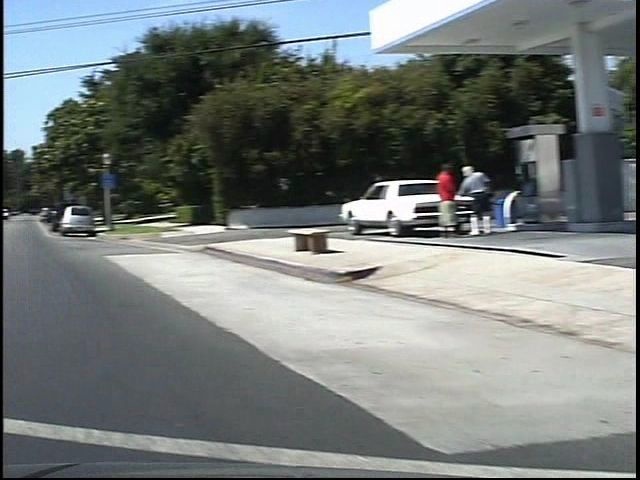person: (440, 162, 481, 242), (411, 158, 442, 242)
